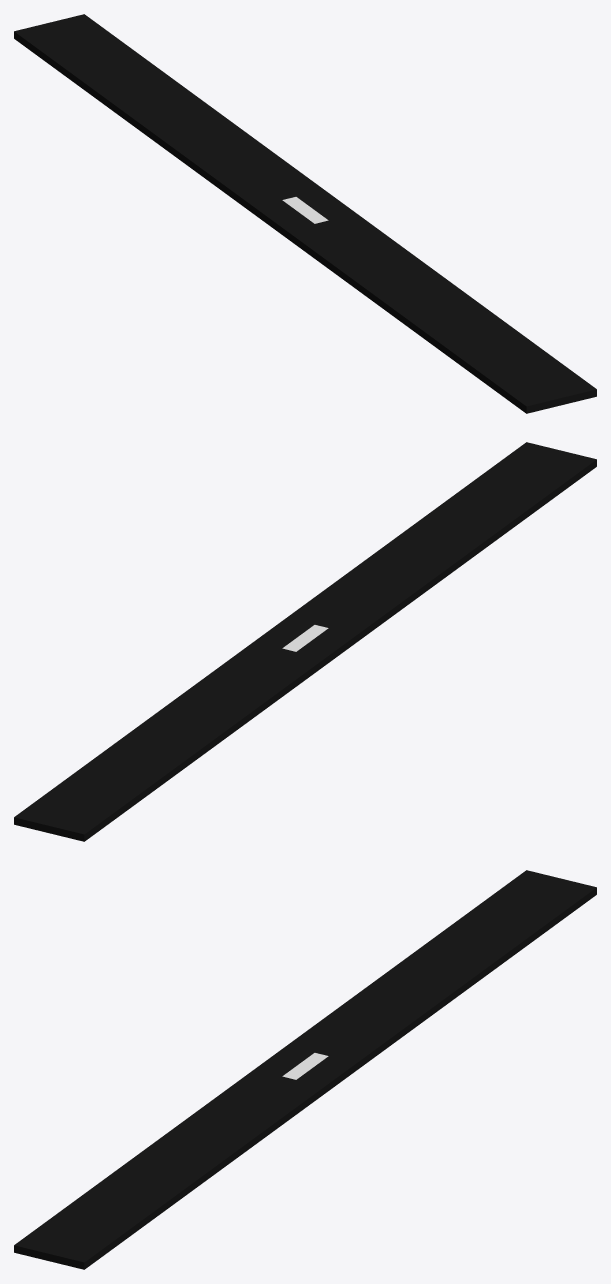
File: Road_Wide.obj
The picture shows the model from 3 angles, top to bottom: view 1: azimuth 30°, elevation 25°; view 2: azimuth 150°, elevation 25°; view 3: azimuth 330°, elevation 25°; orthographic projection.
Size of the model in its own units: 10 by 1 by 126.
1 material, 1 textured.
